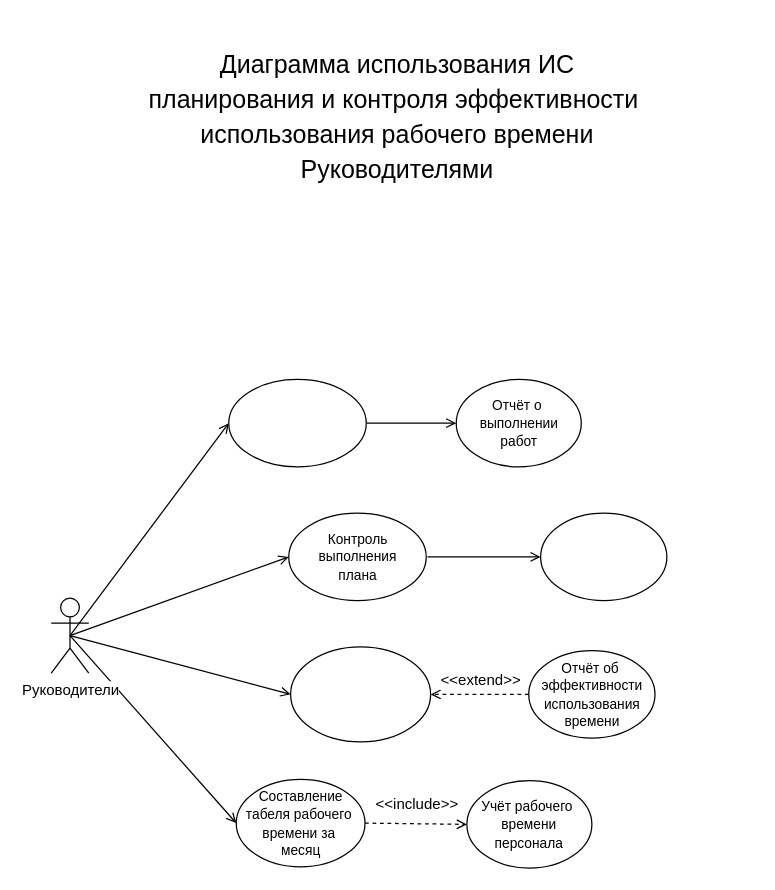
This 775x890 diagram has some shape labels left out. Each missing label, with the box of its shape:
Анализ эффективности использования времени: (289, 646, 431, 742)
Отчёт о выполнении плана: (539, 512, 667, 601)
Составление плана работ: (228, 378, 366, 467)
